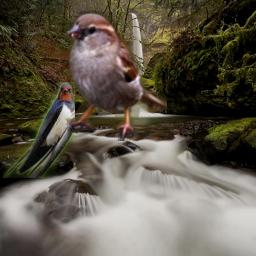Sparrow: (64, 11, 167, 141)
Swallow: (3, 82, 75, 178)
